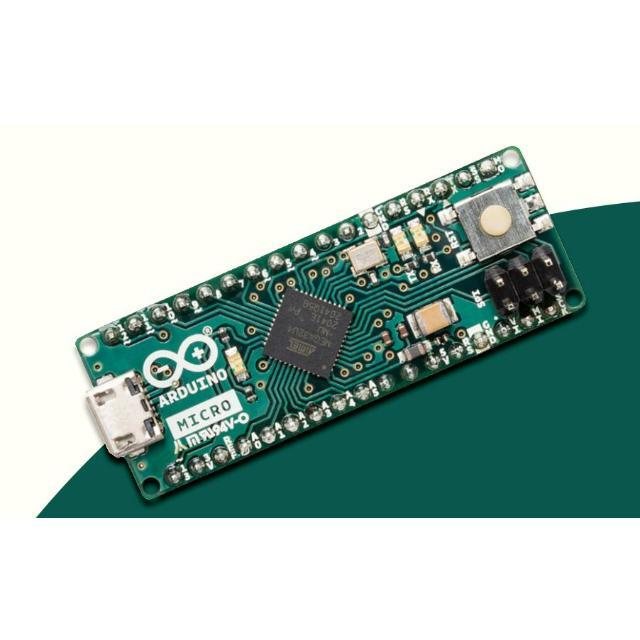Arduino-Micro: (77, 147, 586, 500)
